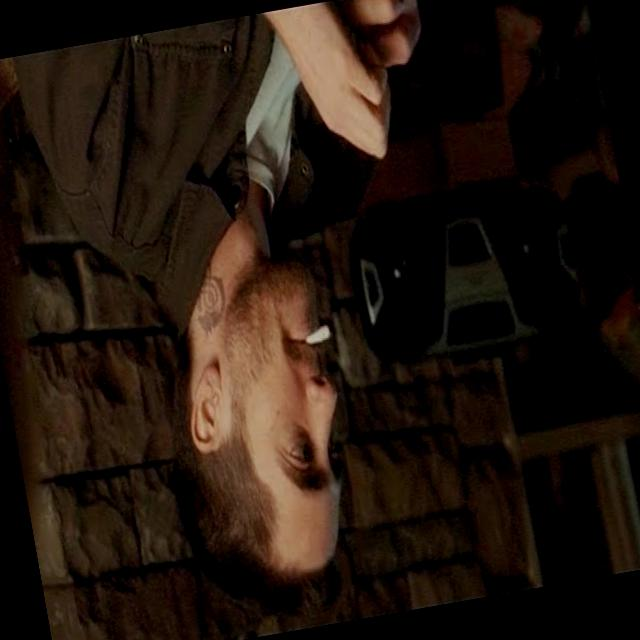smoke: (299, 324, 335, 349)
